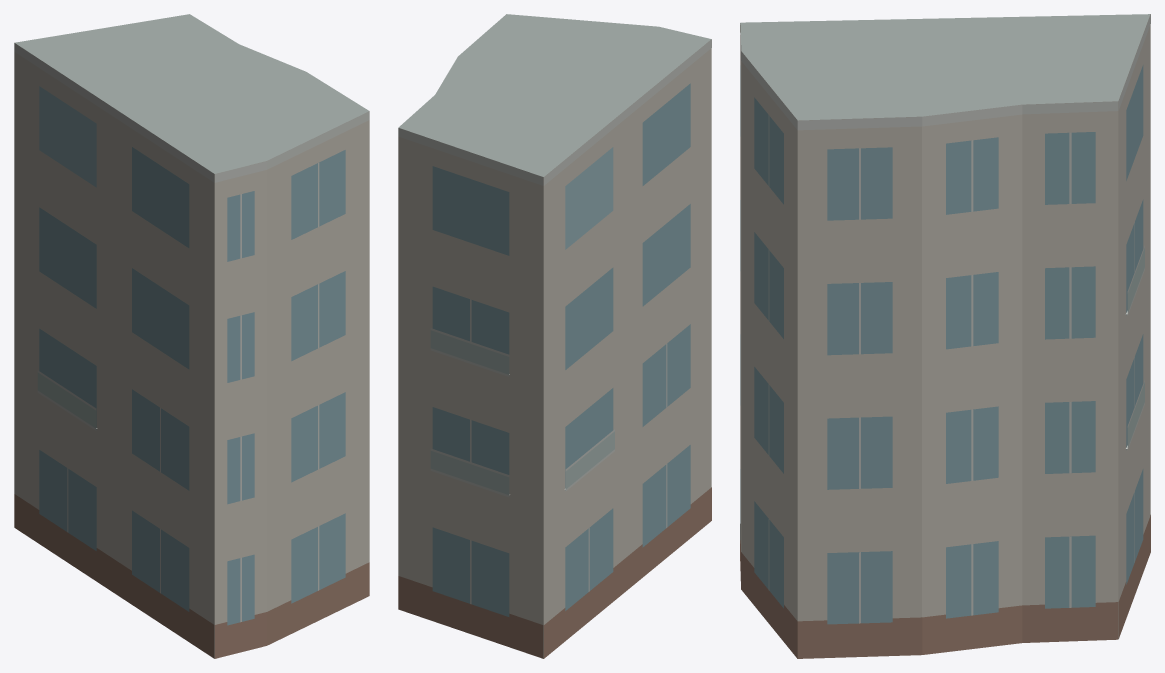
The model's file is survey-upis-32458448.glb.
3 renders of one model, left to right at view 1: azimuth 30°, elevation 25°; view 2: azimuth 150°, elevation 25°; view 3: azimuth 270°, elevation 25°, orthographic. The views are drawn at different scales.
Visible parts, largest first — view 1: survey-upis-32458448.tmp; view 2: survey-upis-32458448.tmp; view 3: survey-upis-32458448.tmp.
Part boxes in pixels (<box>): survey-upis-32458448.tmp: <box>14,14,369,658</box>; survey-upis-32458448.tmp: <box>398,14,711,658</box>; survey-upis-32458448.tmp: <box>740,14,1150,658</box>.
Bounding box in the file's own units: 5.65 × 13.3 × 9.2.
